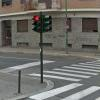crosswalks: (32, 59, 100, 81), (23, 81, 100, 100)
